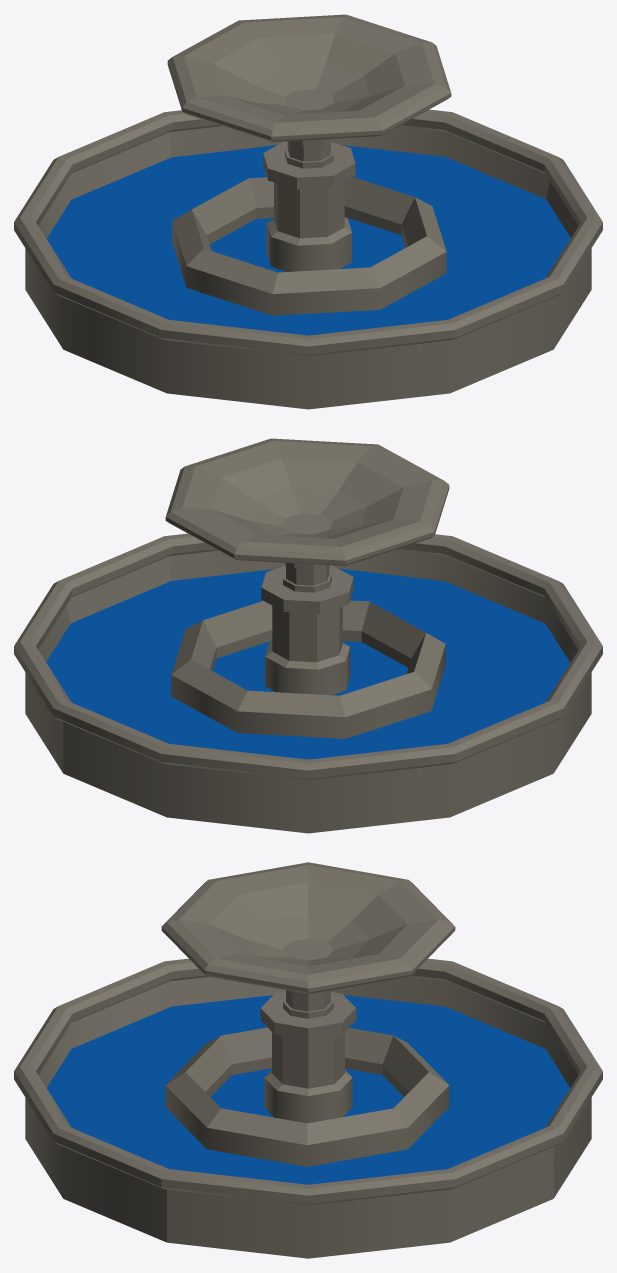
File: centerPieceVillage.FBX
3 renders of one model, top to bottom at view 1: azimuth 30°, elevation 25°; view 2: azimuth 150°, elevation 25°; view 3: azimuth 270°, elevation 25°, orthographic.
Visible parts, largest first — view 1: Object; view 2: Object; view 3: Object.
Part boxes in pixels (<box>): Object: <box>14,14,602,409</box>; Object: <box>14,438,602,833</box>; Object: <box>14,862,602,1258</box>.
Bounding box in the file's own units: 4161 × 1712 × 4161.
